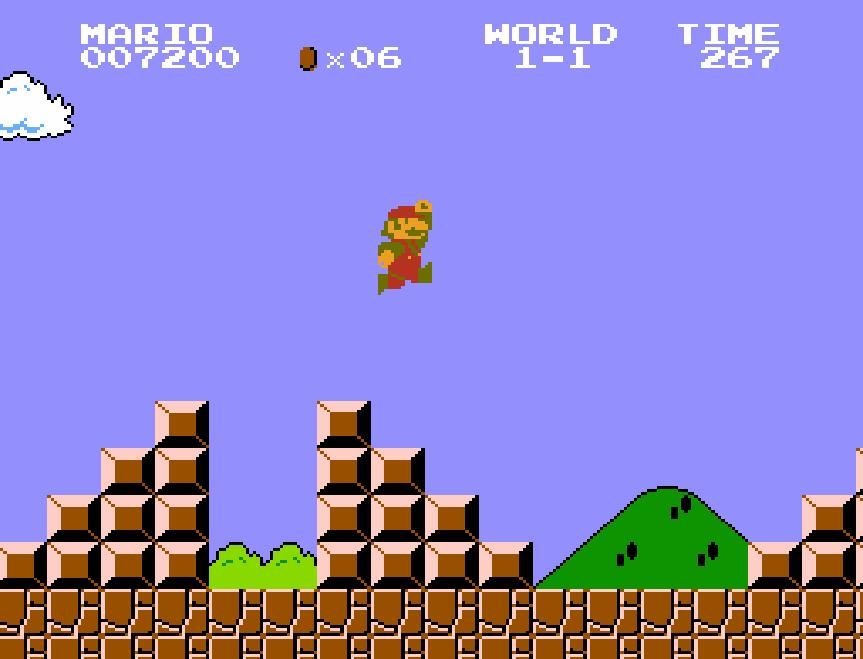big_mario: (376, 198, 434, 296)
